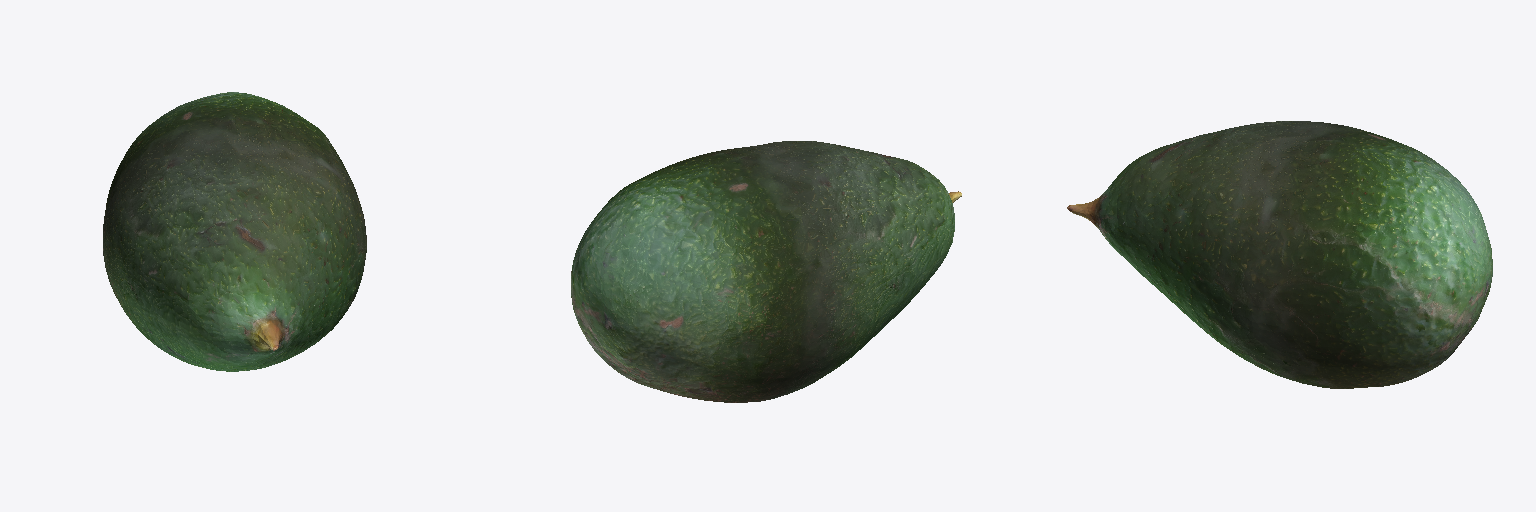
3 views of the same model, side by side, from view 1: azimuth 30°, elevation 25°; view 2: azimuth 150°, elevation 25°; view 3: azimuth 270°, elevation 25° (orthographic).
Bounding box in the file's own units: 2.18 × 1.92 × 3.17.
Materials: 1 (1 with a texture image).